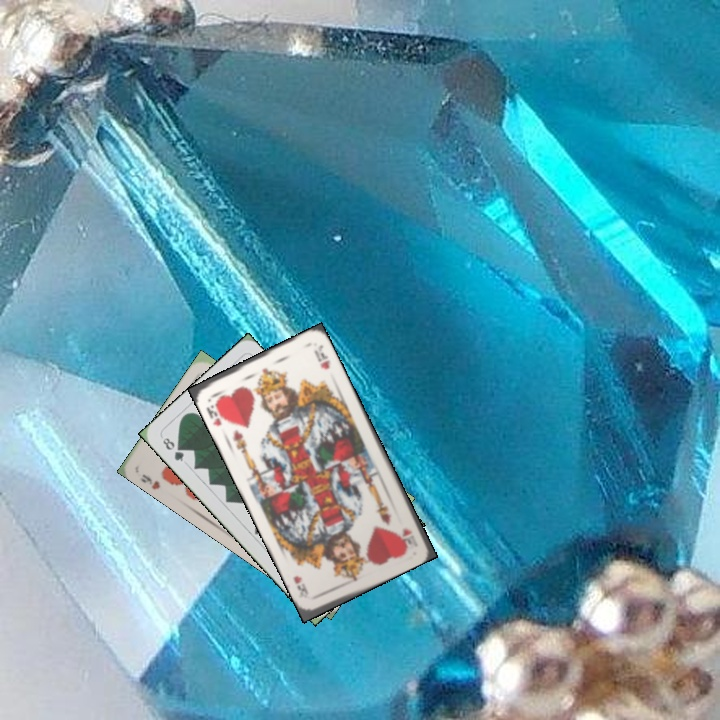G8: (158, 433, 187, 464)
H9: (135, 470, 163, 492)
HK: (202, 397, 231, 429), (398, 524, 420, 548)
